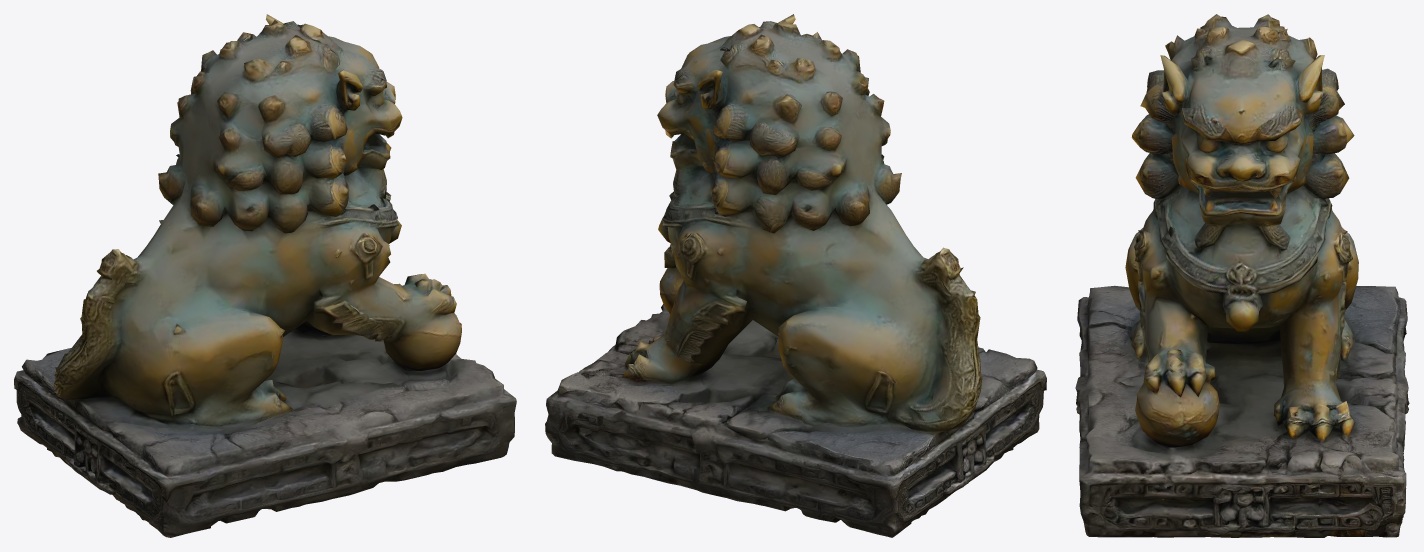
Rendered from court-lion.glb.
3 views of the same model, side by side, from view 1: azimuth 30°, elevation 25°; view 2: azimuth 150°, elevation 25°; view 3: azimuth 270°, elevation 25° (orthographic). The views are drawn at different scales.
Parts seen in each view (by area): view 1: tripo_node_c735f8df-57aa-4396-b85a-c2bcd93ecc34; view 2: tripo_node_c735f8df-57aa-4396-b85a-c2bcd93ecc34; view 3: tripo_node_c735f8df-57aa-4396-b85a-c2bcd93ecc34.
Part boxes in pixels (bbox=[...]): tripo_node_c735f8df-57aa-4396-b85a-c2bcd93ecc34: bbox=[14, 14, 516, 537]; tripo_node_c735f8df-57aa-4396-b85a-c2bcd93ecc34: bbox=[545, 14, 1046, 537]; tripo_node_c735f8df-57aa-4396-b85a-c2bcd93ecc34: bbox=[1075, 14, 1409, 537].
Bounding box in the file's own units: 0.9567 × 1 × 0.6972.
1 material, 1 textured.
